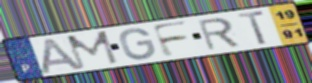A: (38, 36, 85, 75)
F: (150, 19, 192, 59)
G: (118, 27, 158, 61)
M: (64, 29, 121, 71)
R: (195, 17, 243, 52)
T: (236, 9, 270, 47)
